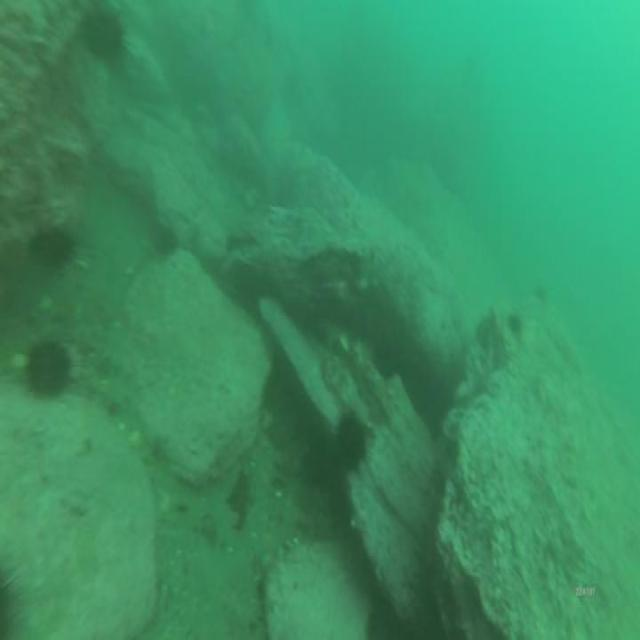echinus: (77, 0, 130, 71), (21, 336, 74, 404), (330, 401, 372, 479), (0, 553, 30, 640), (40, 222, 78, 274), (148, 213, 182, 261), (506, 310, 524, 340)
